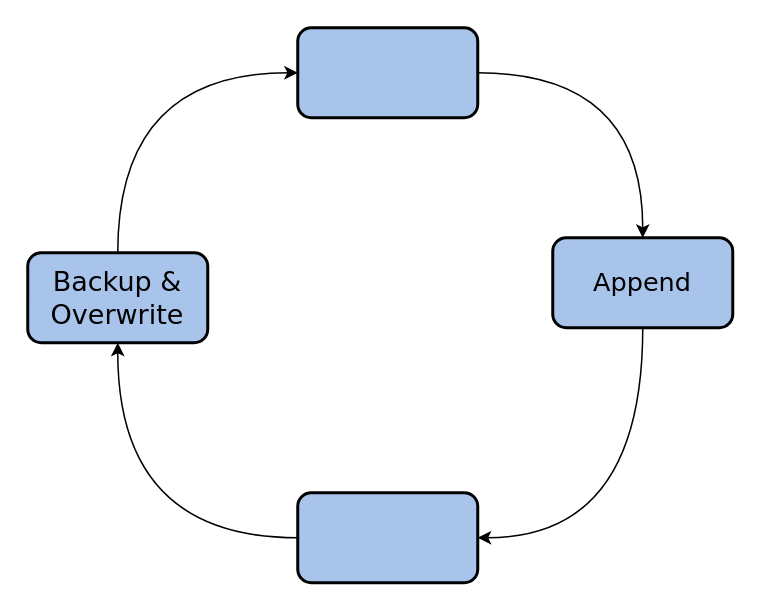
Some shapes in this 759 by 609 pixel diagram are drawn without their labels. The shapes that lost their labels are listed below. From the top down, each one's centre as x and y in pixels, then its label:
point (387, 72): Insert
point (387, 537): Compact
